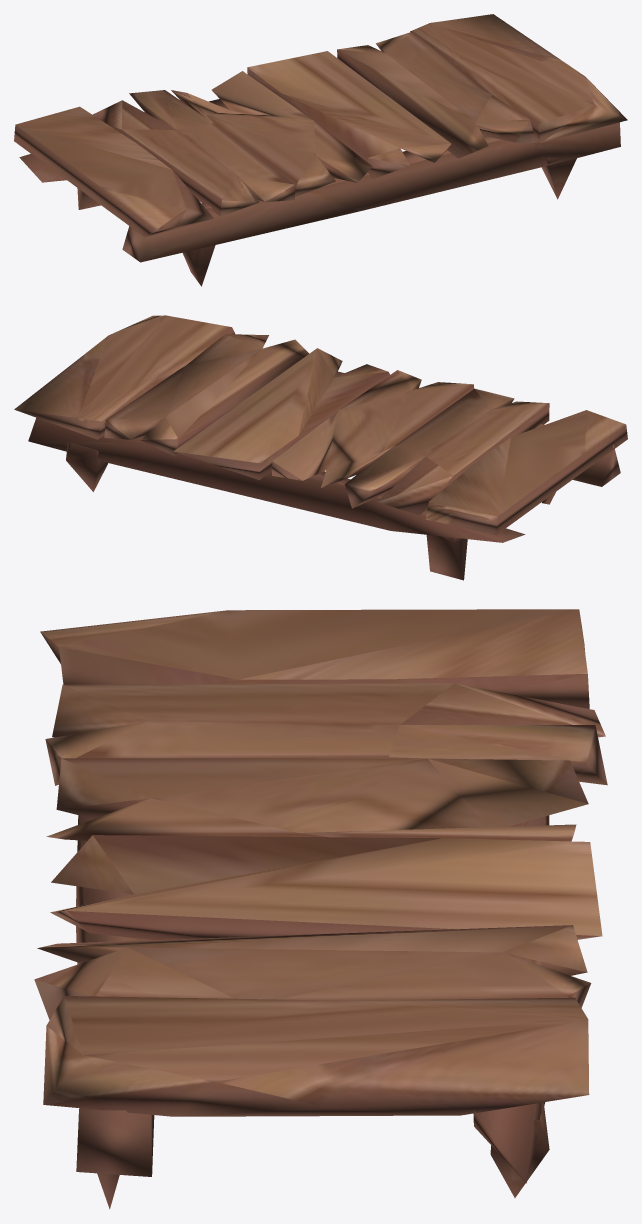
Rendered from s-passerelle-semis.glb.
3 renders of one model, top to bottom at view 1: azimuth 30°, elevation 25°; view 2: azimuth 150°, elevation 25°; view 3: azimuth 270°, elevation 25°, orthographic. The views are drawn at different scales.
Visible parts, largest first — view 1: s-passerelle-semis; view 2: s-passerelle-semis; view 3: s-passerelle-semis.
Boxes of the visible parts, x1,y1,x2,y2 form: s-passerelle-semis: (14,14,627,286); s-passerelle-semis: (14,315,627,580); s-passerelle-semis: (34,609,607,1209).
Size of the model in its own units: 2.01 by 0.3751 by 1.04.
Materials: 1 (1 with a texture image).
